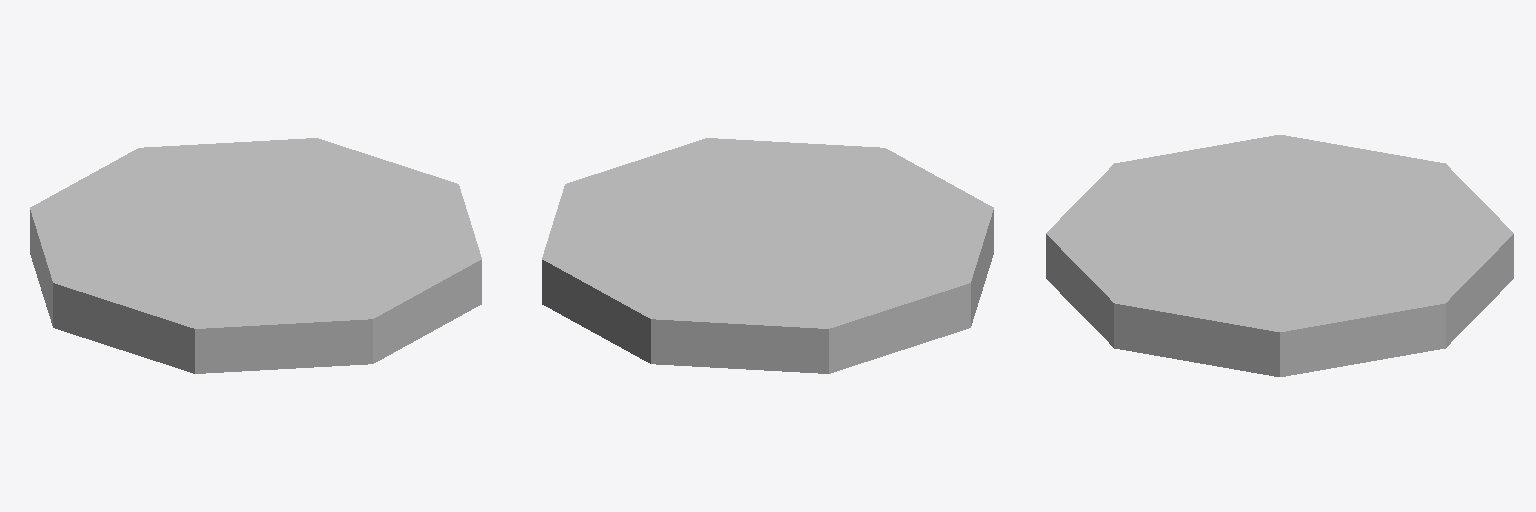
Rendered from Coin.obj.
The picture shows the model from 3 angles: view 1: azimuth 30°, elevation 25°; view 2: azimuth 150°, elevation 25°; view 3: azimuth 270°, elevation 25°; orthographic projection.
Visible parts, largest first — view 1: coin; view 2: coin; view 3: coin.
Part boxes in pixels (left/top/right/bottom): coin: left=30, top=138, right=481, bottom=373; coin: left=542, top=138, right=993, bottom=373; coin: left=1046, top=135, right=1513, bottom=376.
Size of the model in its own units: 6.02 by 0.6387 by 6.02.